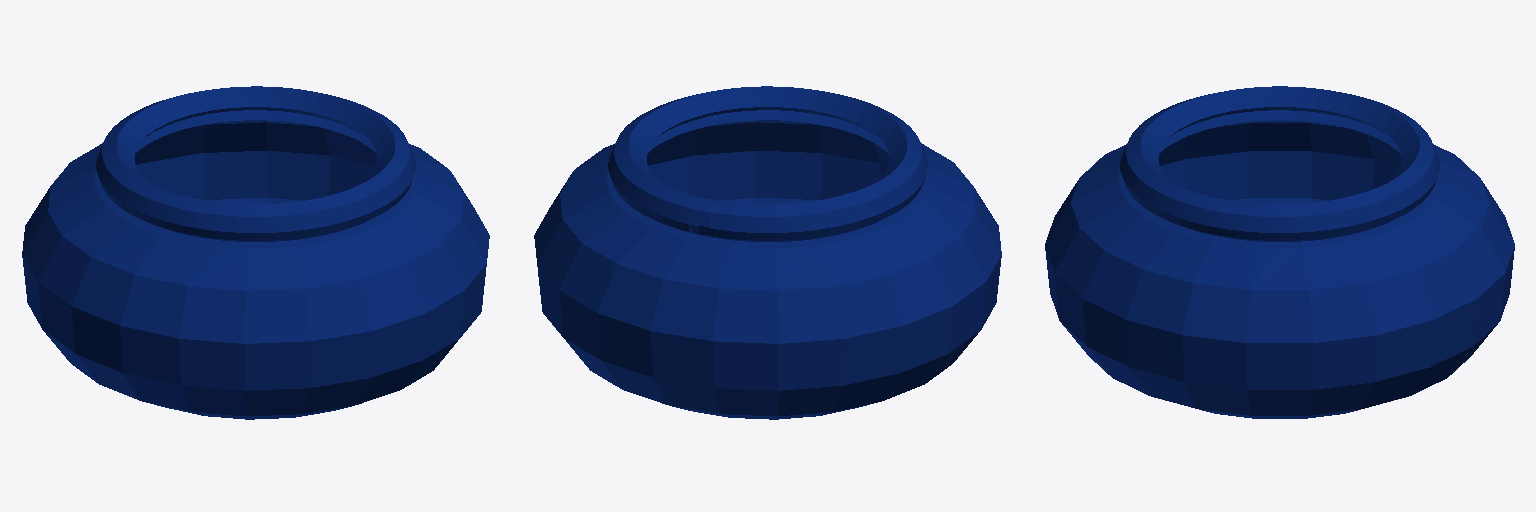
File: FishAndBowl.obj
3 renders of one model, left to right at view 1: azimuth 30°, elevation 25°; view 2: azimuth 150°, elevation 25°; view 3: azimuth 270°, elevation 25°, orthographic.
Parts seen in each view (by area): view 1: FishBowl; view 2: FishBowl; view 3: FishBowl.
Boxes of the visible parts, x1,y1,x2,y2 form: FishBowl: [22, 86, 489, 419]; FishBowl: [534, 86, 1001, 419]; FishBowl: [1045, 86, 1514, 418].
Bounding box in the file's own units: 22.45 × 11.78 × 22.69.